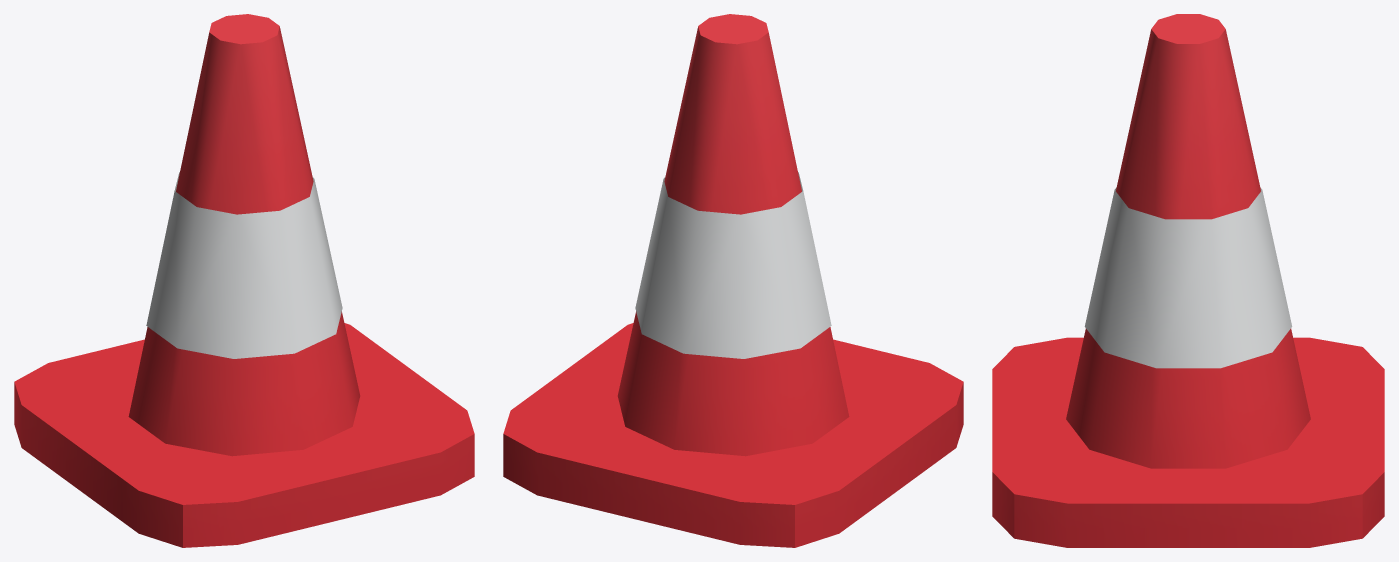
Rendered from Traffic_Cone.fbx.
The picture shows the model from 3 angles, left to right: view 1: azimuth 30°, elevation 25°; view 2: azimuth 150°, elevation 25°; view 3: azimuth 270°, elevation 25°; orthographic projection. The views are drawn at different scales.
Parts seen in each view (by area): view 1: Traffic_Cone_1A; view 2: Traffic_Cone_1A; view 3: Traffic_Cone_1A.
Part boxes in pixels (x1,y1,x2,y2): Traffic_Cone_1A: (14,14,474,547); Traffic_Cone_1A: (503,14,963,547); Traffic_Cone_1A: (992,14,1384,547).
Bounding box in the file's own units: 1543 × 1891 × 1543.
